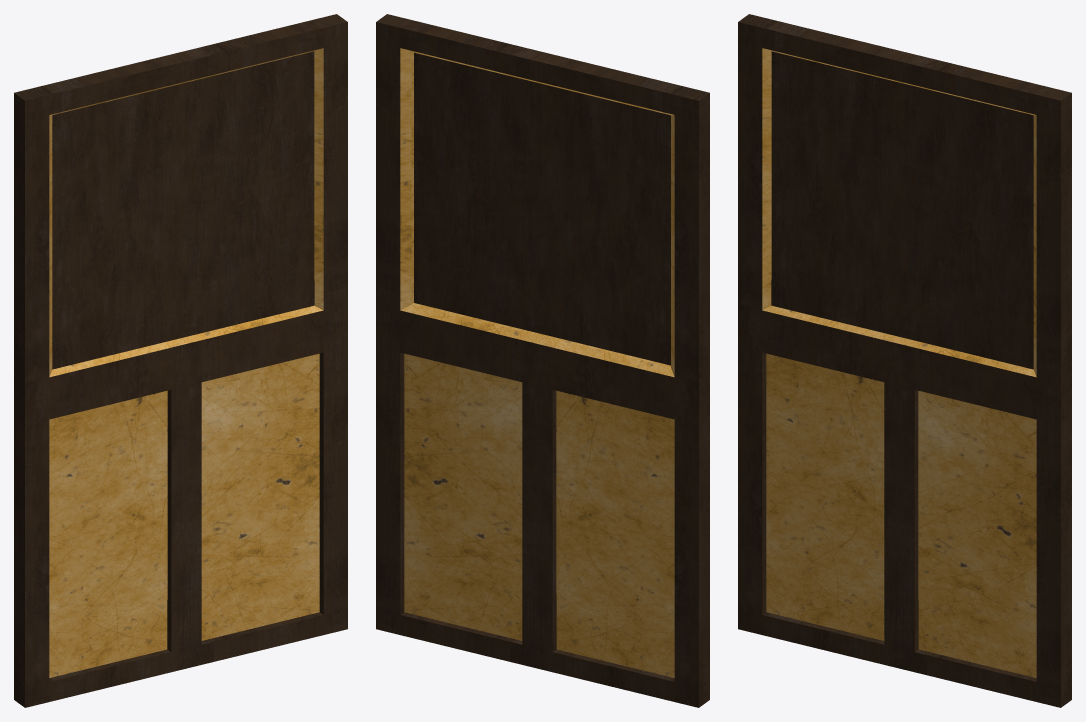
Rendered from porta.fbx.
3 renders of one model, left to right at view 1: azimuth 30°, elevation 25°; view 2: azimuth 150°, elevation 25°; view 3: azimuth 330°, elevation 25°, orthographic.
Parts seen in each view (by area): view 1: door_anterior; view 2: door_anterior; view 3: door_anterior.
Boxes of the visible parts, x1,y1,x2,y2 form: door_anterior: (14,14,347,707); door_anterior: (376,14,709,707); door_anterior: (738,14,1071,707).
Size of the model in its own units: 131 by 236 by 7.73.
